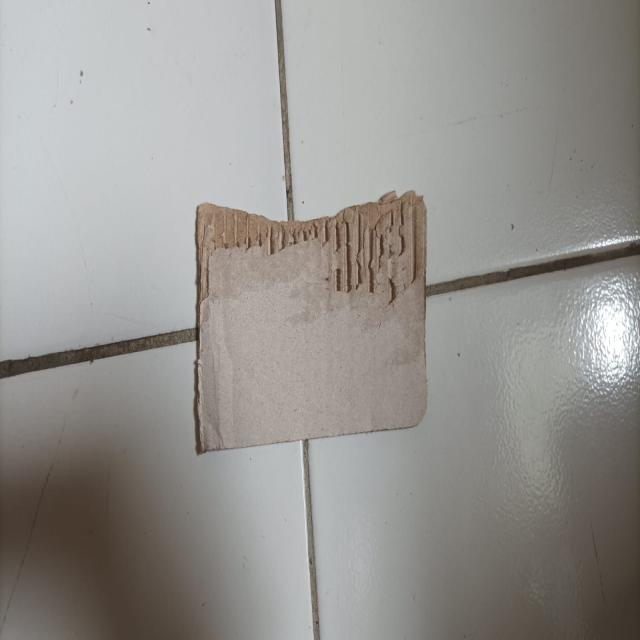Organik: (199, 196, 426, 449)
